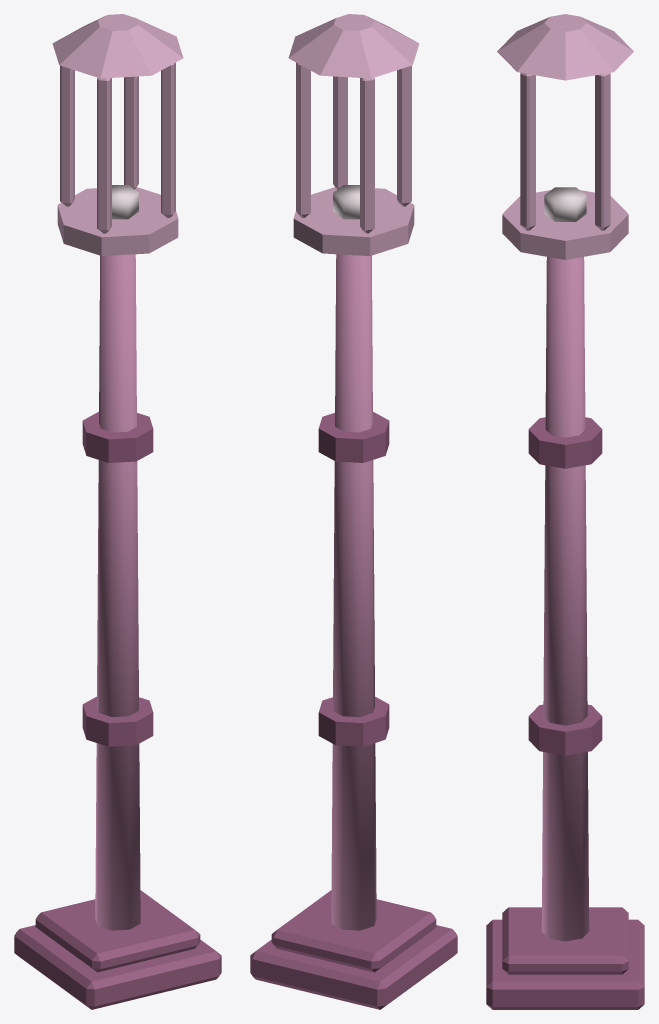
The model's file is pink_dungeon_lamp_v0.glb.
3 views of the same model, side by side, from view 1: azimuth 30°, elevation 25°; view 2: azimuth 150°, elevation 25°; view 3: azimuth 270°, elevation 25° (orthographic).
Parts seen in each view (by area): view 1: pink_dungeon_lamp_v0; view 2: pink_dungeon_lamp_v0; view 3: pink_dungeon_lamp_v0.
Boxes of the visible parts, box(x1,y1,x2,y2) form: pink_dungeon_lamp_v0: box(14, 14, 221, 1009); pink_dungeon_lamp_v0: box(250, 14, 457, 1009); pink_dungeon_lamp_v0: box(486, 14, 644, 1009).
Size of the model in its own units: 0.3 by 2 by 0.3.
